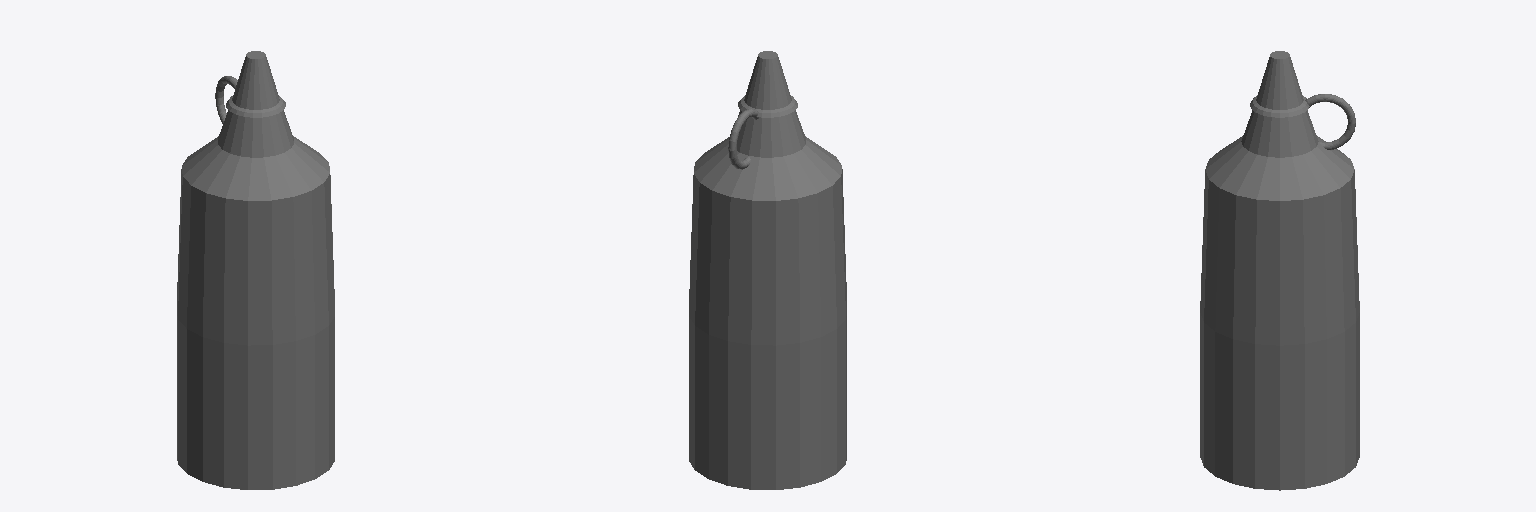
Rendered from adereso.obj.
3 views of the same model, side by side, from view 1: azimuth 30°, elevation 25°; view 2: azimuth 150°, elevation 25°; view 3: azimuth 270°, elevation 25° (orthographic).
Visible parts, largest first — view 1: pCylinder57; view 2: pCylinder57; view 3: pCylinder57.
Part boxes in pixels (bbox=[...]): pCylinder57: bbox=[177, 51, 334, 489]; pCylinder57: bbox=[689, 51, 846, 489]; pCylinder57: bbox=[1200, 51, 1359, 490].
Bounding box in the file's own units: 1.53 × 4.26 × 1.53.